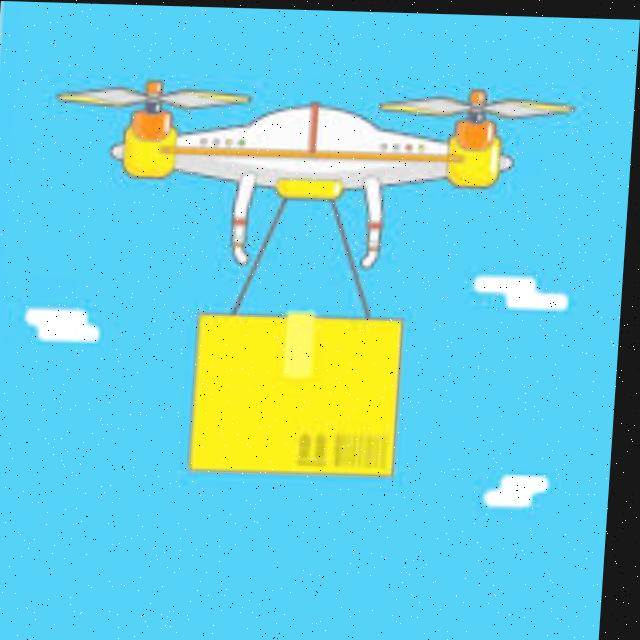drone: (53, 50, 596, 288)
